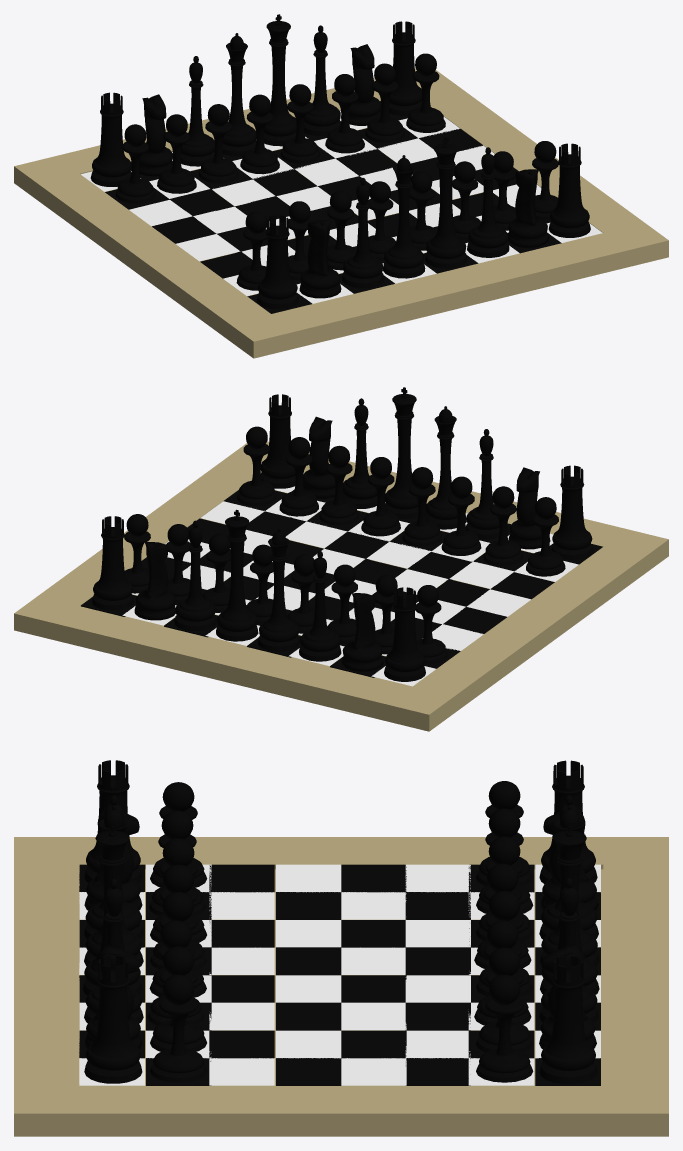
File: Glass Chess.FBX
3 renders of one model, top to bottom at view 1: azimuth 30°, elevation 25°; view 2: azimuth 150°, elevation 25°; view 3: azimuth 270°, elevation 25°, orthographic. The views are drawn at different scales.
Parts seen in each view (by area): view 1: Box01, Line05 (×2), Line08, Line09, Line11, Line02, Line03, Line10, Line06, knight, knight01, Line01 (+36 smaller); view 2: Box01, Line05 (×2), Line03, Line10, Line11, Line09, Line06, Line08, Line07, Line04, knight03, knight02 (+35 smaller); view 3: Box01, Line05 (×2), Line10, Circle10, Circle15, Line08, Line03, Line09, Circle16, Line11, Circle09, Object19 (+55 smaller).
Part boxes in pixels (<box>): Box01: <box>14,68,668,358</box>; Line05 (×2): <box>342,143,590,288</box>; Line08: <box>425,137,467,268</box>; Line09: <box>256,215,298,309</box>; Line11: <box>90,92,131,186</box>; Line02: <box>382,155,425,278</box>; Line03: <box>264,14,296,146</box>; Line10: <box>389,21,422,115</box>; Line06: <box>222,33,256,156</box>; knight: <box>507,169,548,247</box>; knight01: <box>299,220,341,298</box>; Line01: <box>467,147,509,257</box>; Box01: <box>14,441,668,731</box>; Line05 (×2): <box>260,394,507,539</box>; Line03: <box>216,509,258,641</box>; Line10: <box>92,516,133,610</box>; Line11: <box>384,587,425,681</box>; Line09: <box>551,465,593,559</box>; Line06: <box>257,528,300,651</box>; Line08: <box>385,387,418,518</box>; Line07: <box>174,520,216,631</box>; Line04: <box>299,551,341,661</box>; knight03: <box>341,593,383,671</box>; knight02: <box>134,542,175,620</box>; Box01: <box>14,837,668,1136</box>; Line05 (×2): <box>84,795,143,1083</box>; Line10: <box>539,955,597,1084</box>; Circle10: <box>476,974,533,1082</box>; Circle15: <box>150,974,207,1082</box>; Line08: <box>82,821,142,995</box>; Line03: <box>540,821,599,994</box>; Line09: <box>84,760,142,882</box>; Circle16: <box>150,946,206,1051</box>; Line11: <box>539,760,597,883</box>; Circle09: <box>476,947,532,1052</box>; Object19: <box>276,1002,341,1030</box>.
Bounding box in the file's own units: 6350 × 2032 × 6350.
